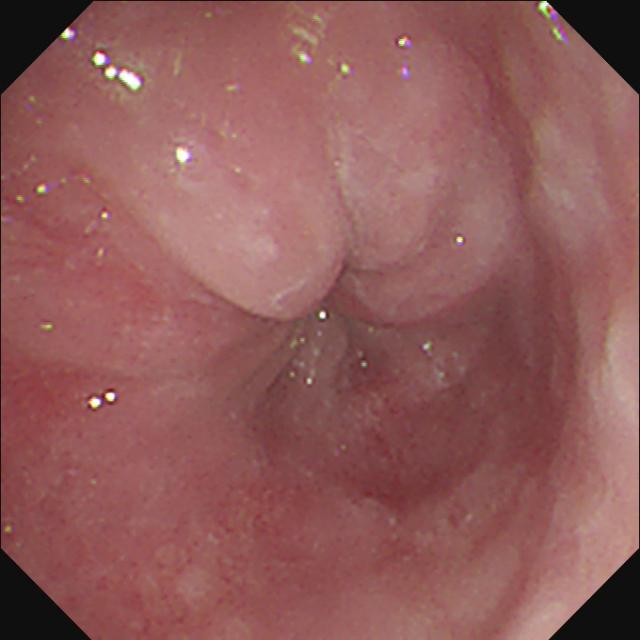I: (222, 201, 472, 445)
U: (88, 50, 145, 94), (538, 2, 569, 42), (86, 389, 118, 413), (172, 142, 193, 169), (60, 27, 78, 44), (396, 33, 410, 47)
